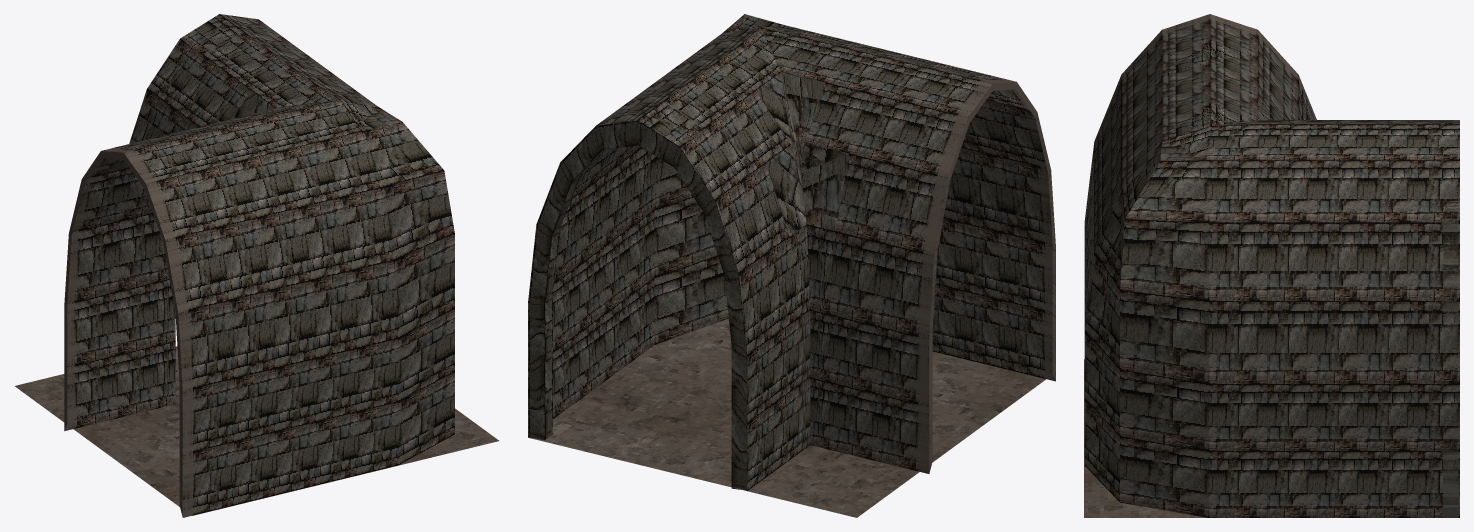
The model's file is dungeon_turn_a_model.gltf.
3 renders of one model, left to right at view 1: azimuth 30°, elevation 25°; view 2: azimuth 150°, elevation 25°; view 3: azimuth 270°, elevation 25°, orthographic. The views are drawn at different scales.
Parts seen in each view (by area): view 1: Cube.001; view 2: Cube.001; view 3: Cube.001.
Part boxes in pixels (x1=…): Cube.001: x1=15, y1=14, x2=498, y2=517; Cube.001: x1=528, y1=14, x2=1055, y2=517; Cube.001: x1=1084, y1=14, x2=1459, y2=517.
Bounding box in the file's own units: 3.09 × 3.02 × 3.
4 materials, 4 textured.
